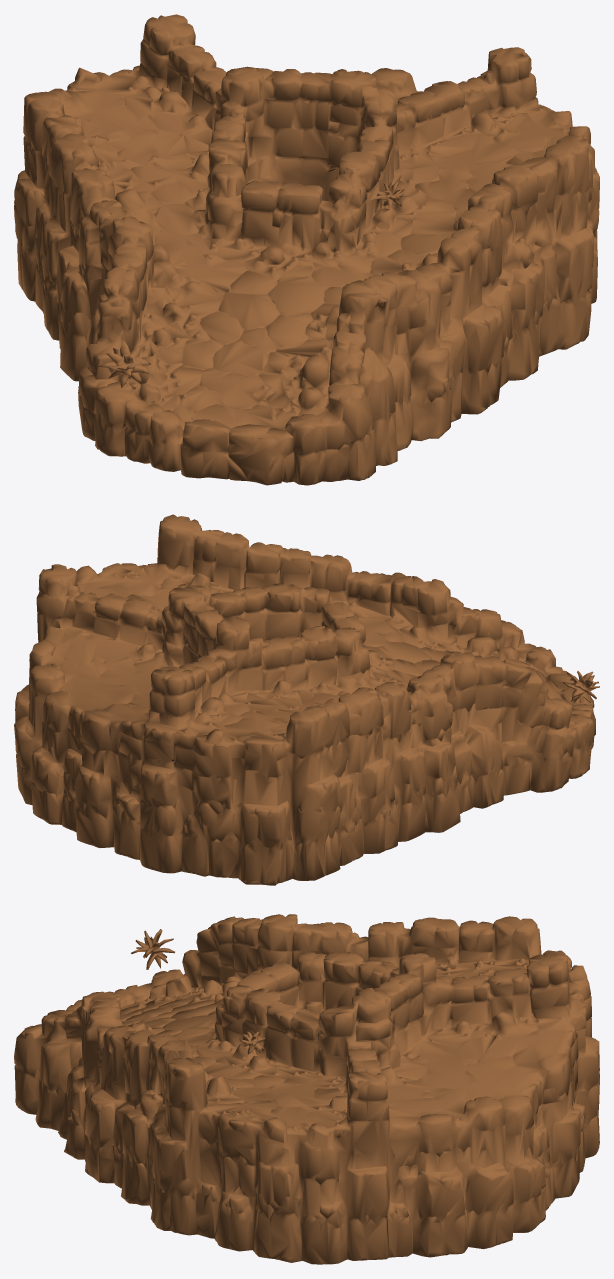
File: fortaleza_en_ruinas.glb
3 views of the same model, one above another, from view 1: azimuth 30°, elevation 25°; view 2: azimuth 150°, elevation 25°; view 3: azimuth 270°, elevation 25° (orthographic). The views are drawn at different scales.
Parts seen in each view (by area): view 1: fortaleza_en_ruinas; view 2: fortaleza_en_ruinas; view 3: fortaleza_en_ruinas.
Boxes of the visible parts, box(x1,y1,x2,y2) form: fortaleza_en_ruinas: box(14, 14, 599, 485); fortaleza_en_ruinas: box(14, 514, 599, 885); fortaleza_en_ruinas: box(14, 914, 599, 1264).
Size of what is drawn, in the model's own units: 5.94 by 2.25 by 6.
1 material, 1 textured.
